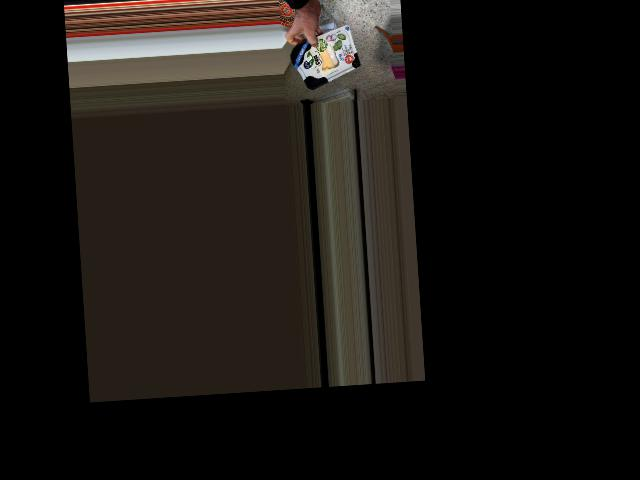cheese: (287, 34, 361, 86)
